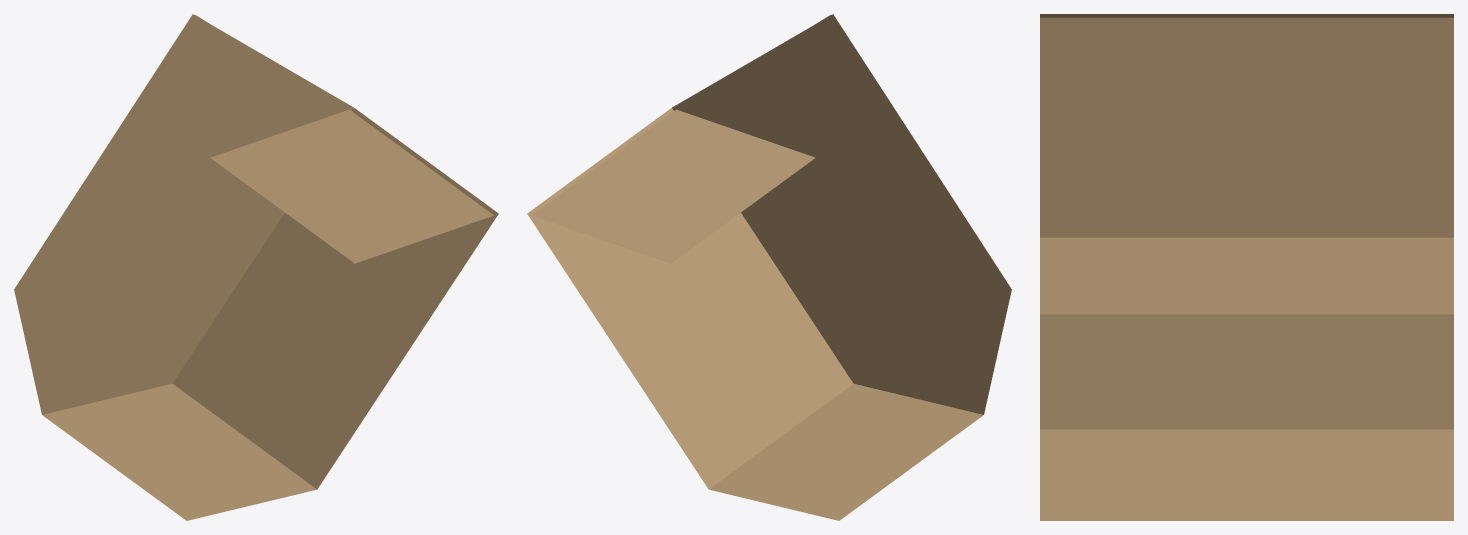
3 views of the same model, side by side, from view 1: azimuth 30°, elevation 25°; view 2: azimuth 150°, elevation 25°; view 3: azimuth 270°, elevation 25° (orthographic). The views are drawn at different scales.
Visible parts, largest first — view 1: 0_3_1_3_3_0_0_2_1; view 2: 0_3_1_3_3_0_0_2_1; view 3: 0_3_1_3_3_0_0_2_1.
Part boxes in pixels (x1,y1,x2,y2): 0_3_1_3_3_0_0_2_1: [14, 14, 498, 520]; 0_3_1_3_3_0_0_2_1: [527, 14, 1011, 520]; 0_3_1_3_3_0_0_2_1: [1040, 14, 1453, 520].
Size of the model in its own units: 28.47 by 29.18 by 21.
